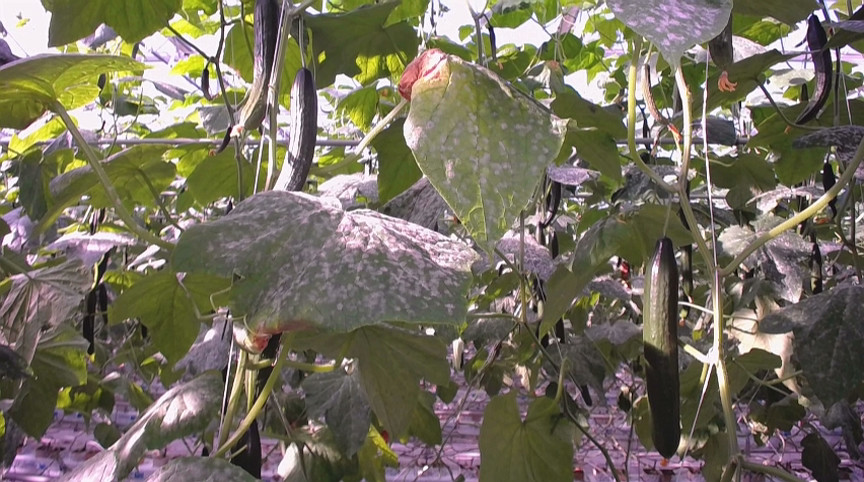cucumber: (645, 238, 684, 459), (275, 68, 319, 193), (240, 1, 277, 129), (796, 19, 832, 124), (710, 14, 732, 70)
